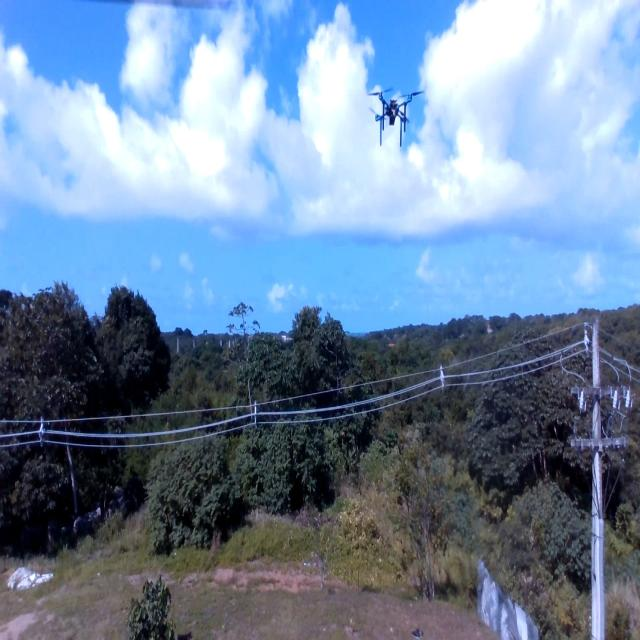-uav-: (364, 80, 431, 153)
